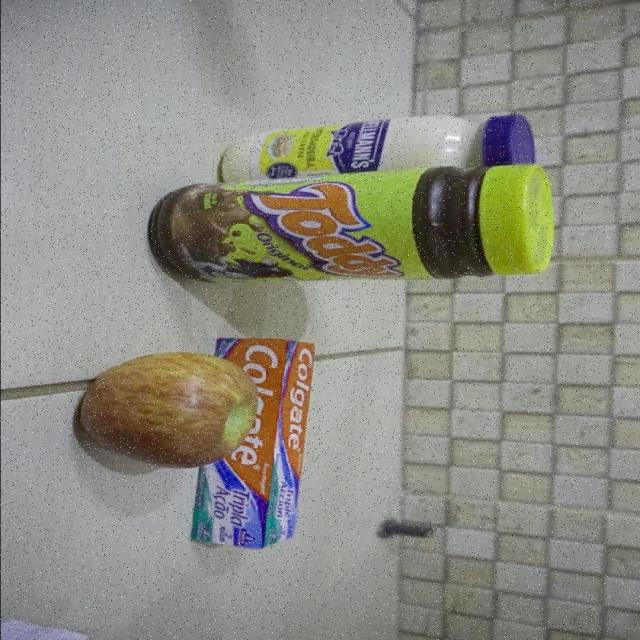Apple: (74, 351, 260, 472)
ChocolatePowder: (146, 162, 556, 284)
Mayonnaise: (216, 111, 542, 185)
Toothpaste: (187, 336, 321, 552)
